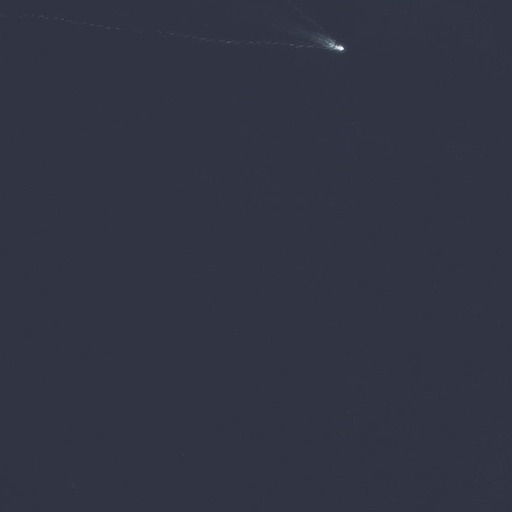ship: (332, 41, 345, 55)
